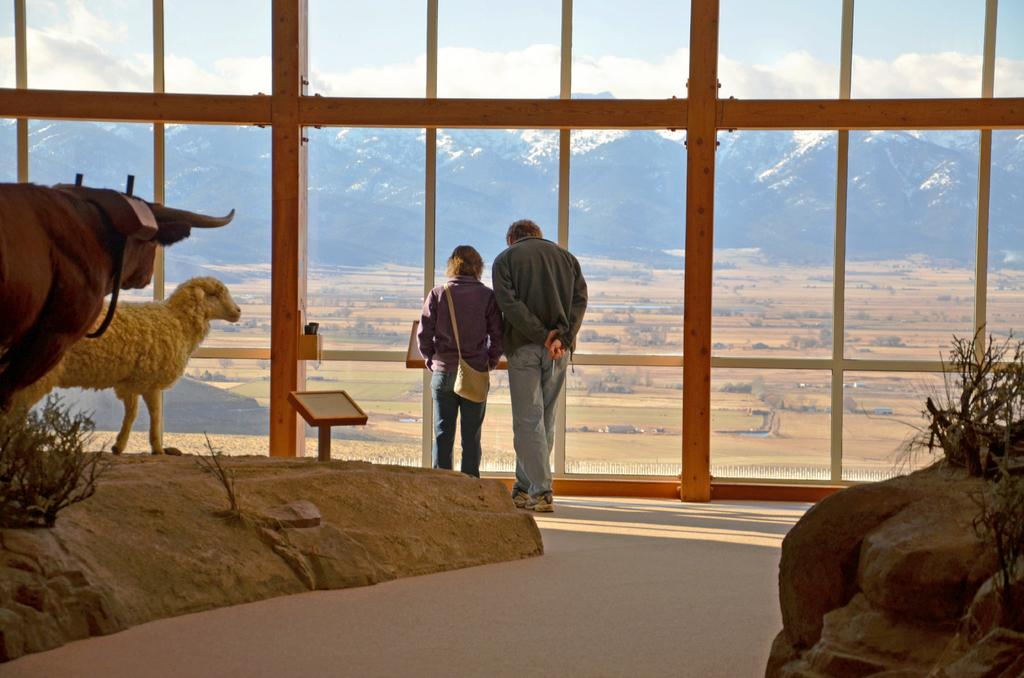Sheep: (10, 279, 242, 455)
